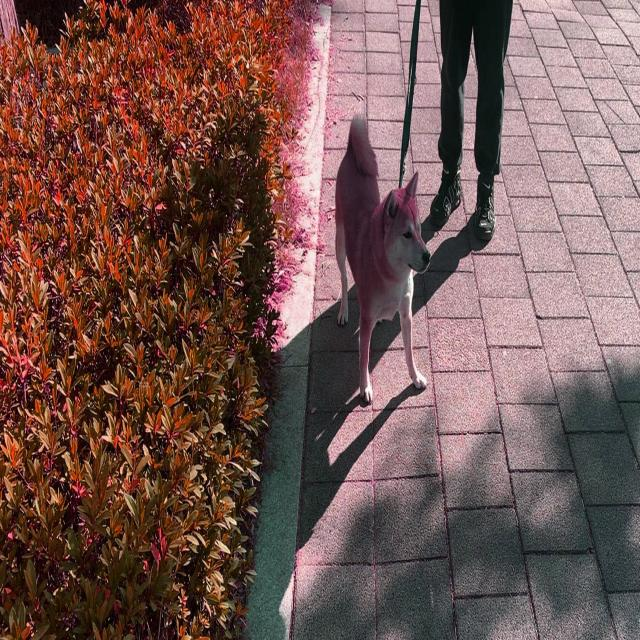Leashed_Dog: (334, 0, 464, 406)
